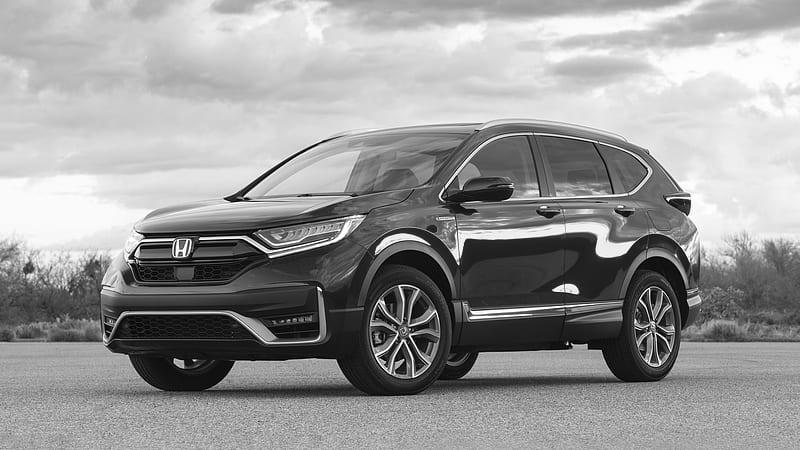Car hood: (131, 184, 419, 236)
Fender - -F-L-: (342, 170, 467, 355)
Fender - -R-L-: (627, 149, 699, 293)
Front bumper: (98, 247, 362, 360)
Headlight - -L-: (250, 212, 369, 259)
Headlight - -R-: (120, 225, 145, 262)
Passenger-s door - -F-L-: (445, 120, 577, 354)
Passenger-s door - -R-L-: (531, 117, 648, 363)
Rear bumper: (673, 269, 704, 334)
Rear light - -L-: (661, 191, 693, 216)
Side bumper - -L-: (444, 297, 627, 368)
Side mirror - -L-: (449, 173, 513, 209)
